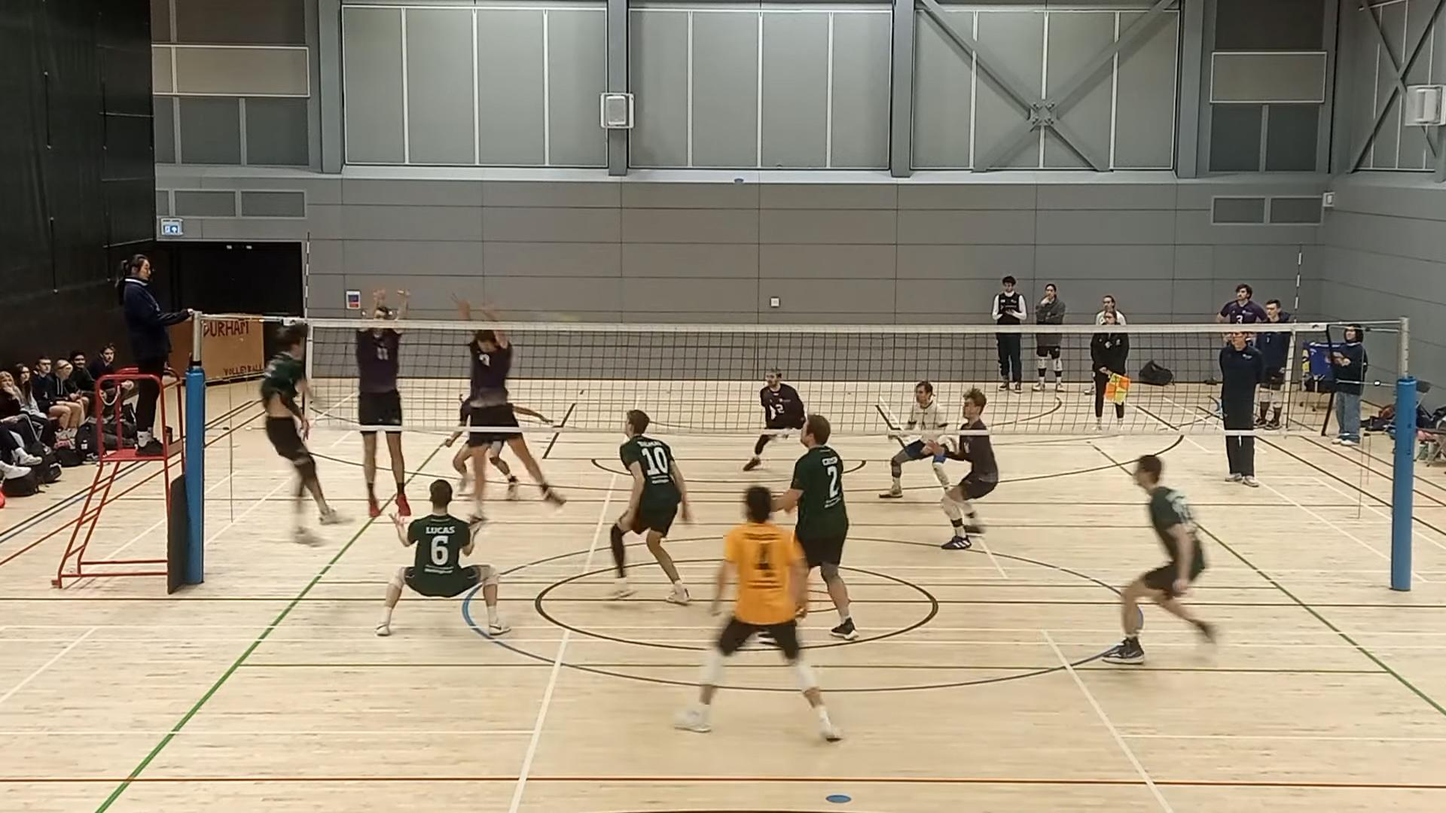Attack: (256, 320, 355, 554)
Block: (444, 289, 569, 521), (349, 287, 423, 520)
Player: (675, 486, 840, 741), (1103, 455, 1215, 664), (376, 480, 509, 635), (773, 414, 857, 640), (610, 410, 691, 604), (930, 388, 999, 550), (879, 381, 948, 498), (760, 367, 804, 430), (487, 441, 519, 499)
